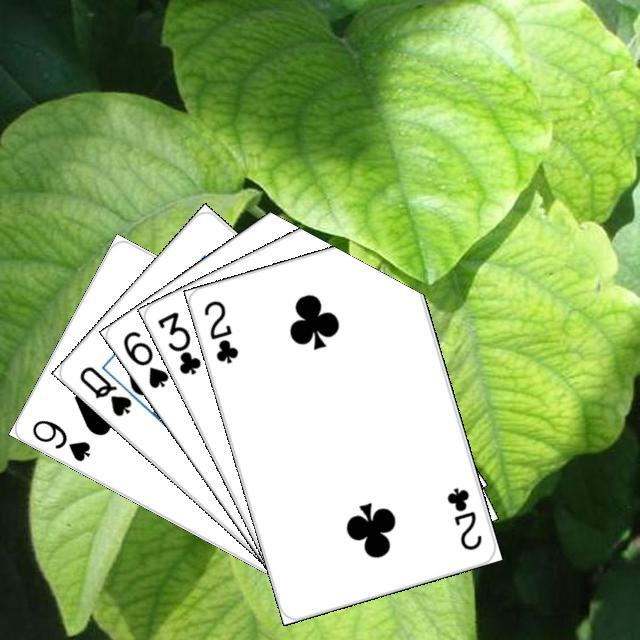2c: (198, 295, 240, 366), (442, 482, 484, 552)
3c: (152, 306, 203, 377)
6s: (117, 325, 171, 391)
9s: (27, 414, 92, 464)
Qs: (74, 361, 134, 418)
